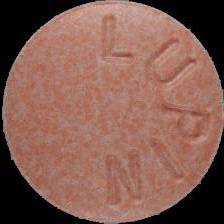53808-0888: (0, 0, 224, 224)
